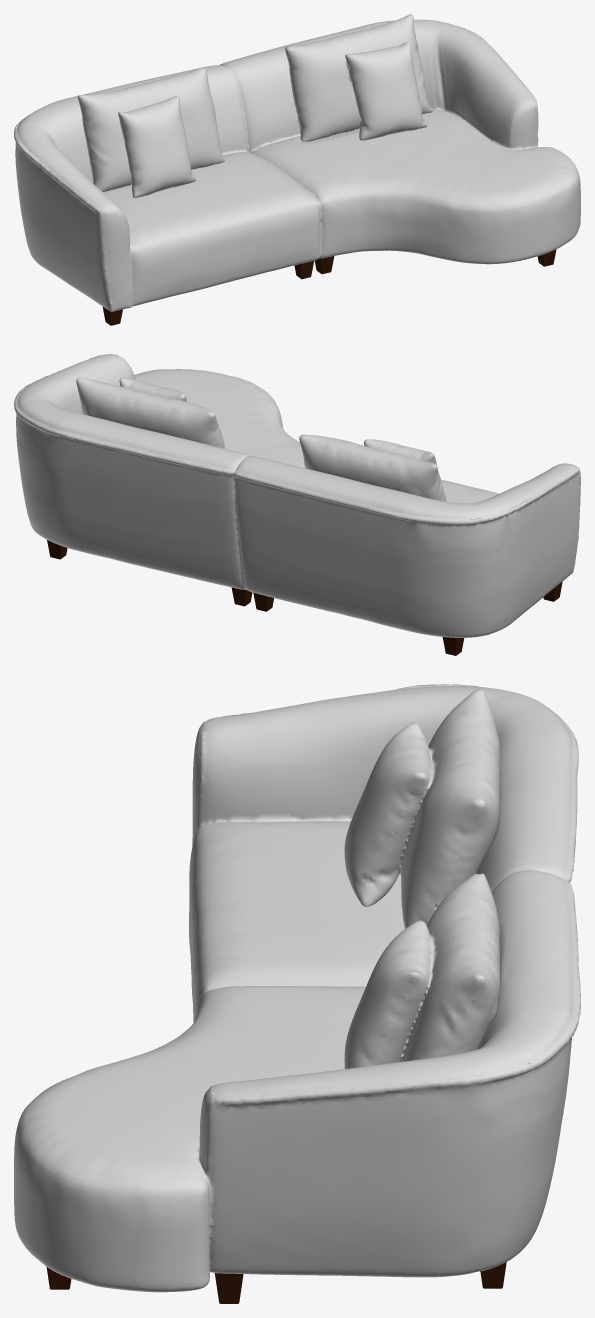
Rendered from SBH_alba.glb.
The picture shows the model from 3 angles, top to bottom: view 1: azimuth 30°, elevation 25°; view 2: azimuth 150°, elevation 25°; view 3: azimuth 270°, elevation 25°; orthographic projection. The views are drawn at different scales.
Parts seen in each view (by area): view 1: SBH_alba; view 2: SBH_alba; view 3: SBH_alba.
Part boxes in pixels (x1,y1,x2,y2): SBH_alba: (14,14,580,325); SBH_alba: (14,354,580,655); SBH_alba: (14,684,580,1303).
Bounding box in the file's own units: 2.44 × 0.8311 × 1.44.
2 materials, 1 textured.
